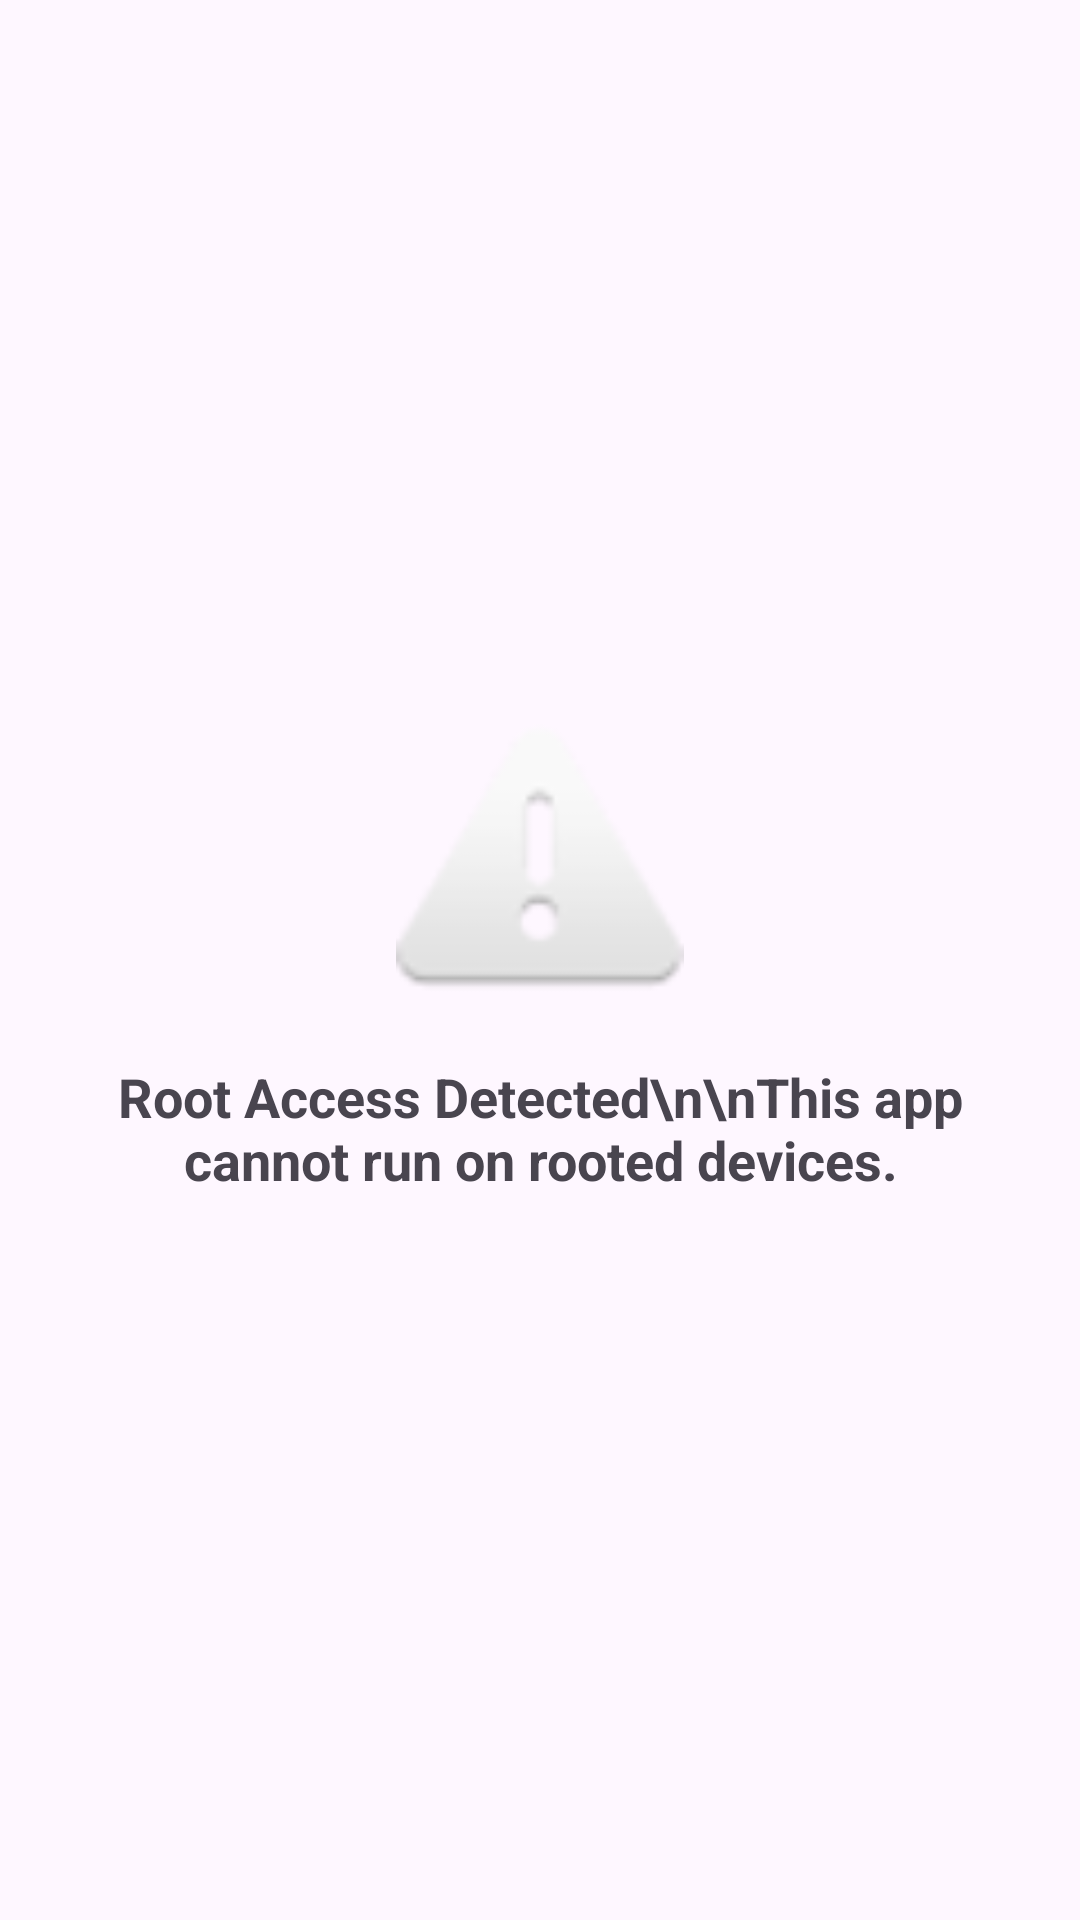

Locate icon controls on the screen. Image size 1080px x 1920px, boxes as (x1, y1, x2, y2).
alert: (396, 791, 684, 985)
